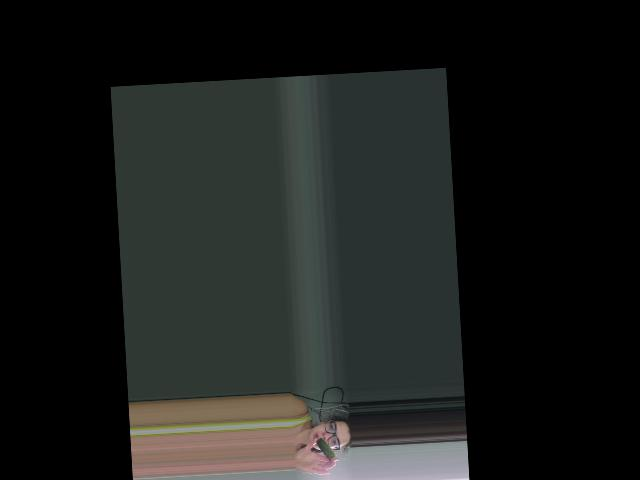cucumber: (316, 437, 336, 460)
